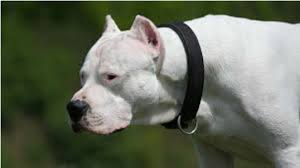dog: (63, 8, 300, 161)
